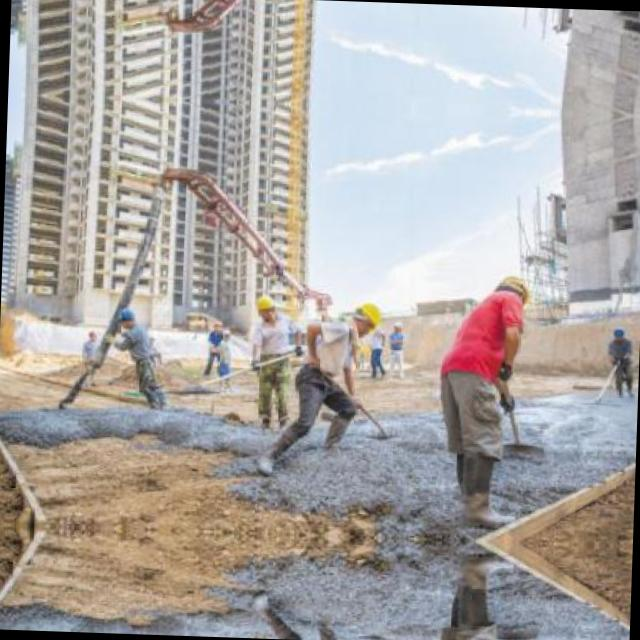helmet: (348, 296, 384, 338), (494, 272, 530, 313), (251, 291, 279, 320), (116, 301, 136, 331)
